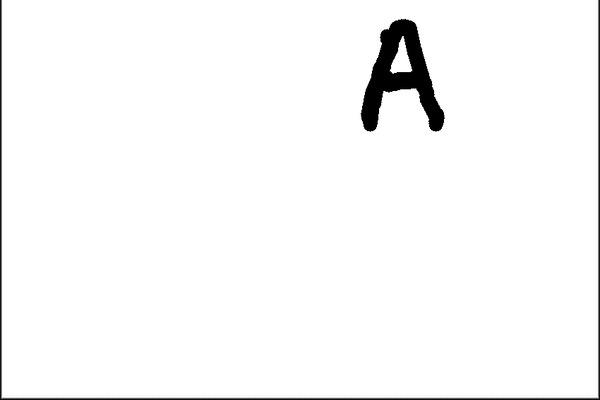A: (349, 12, 452, 142)
